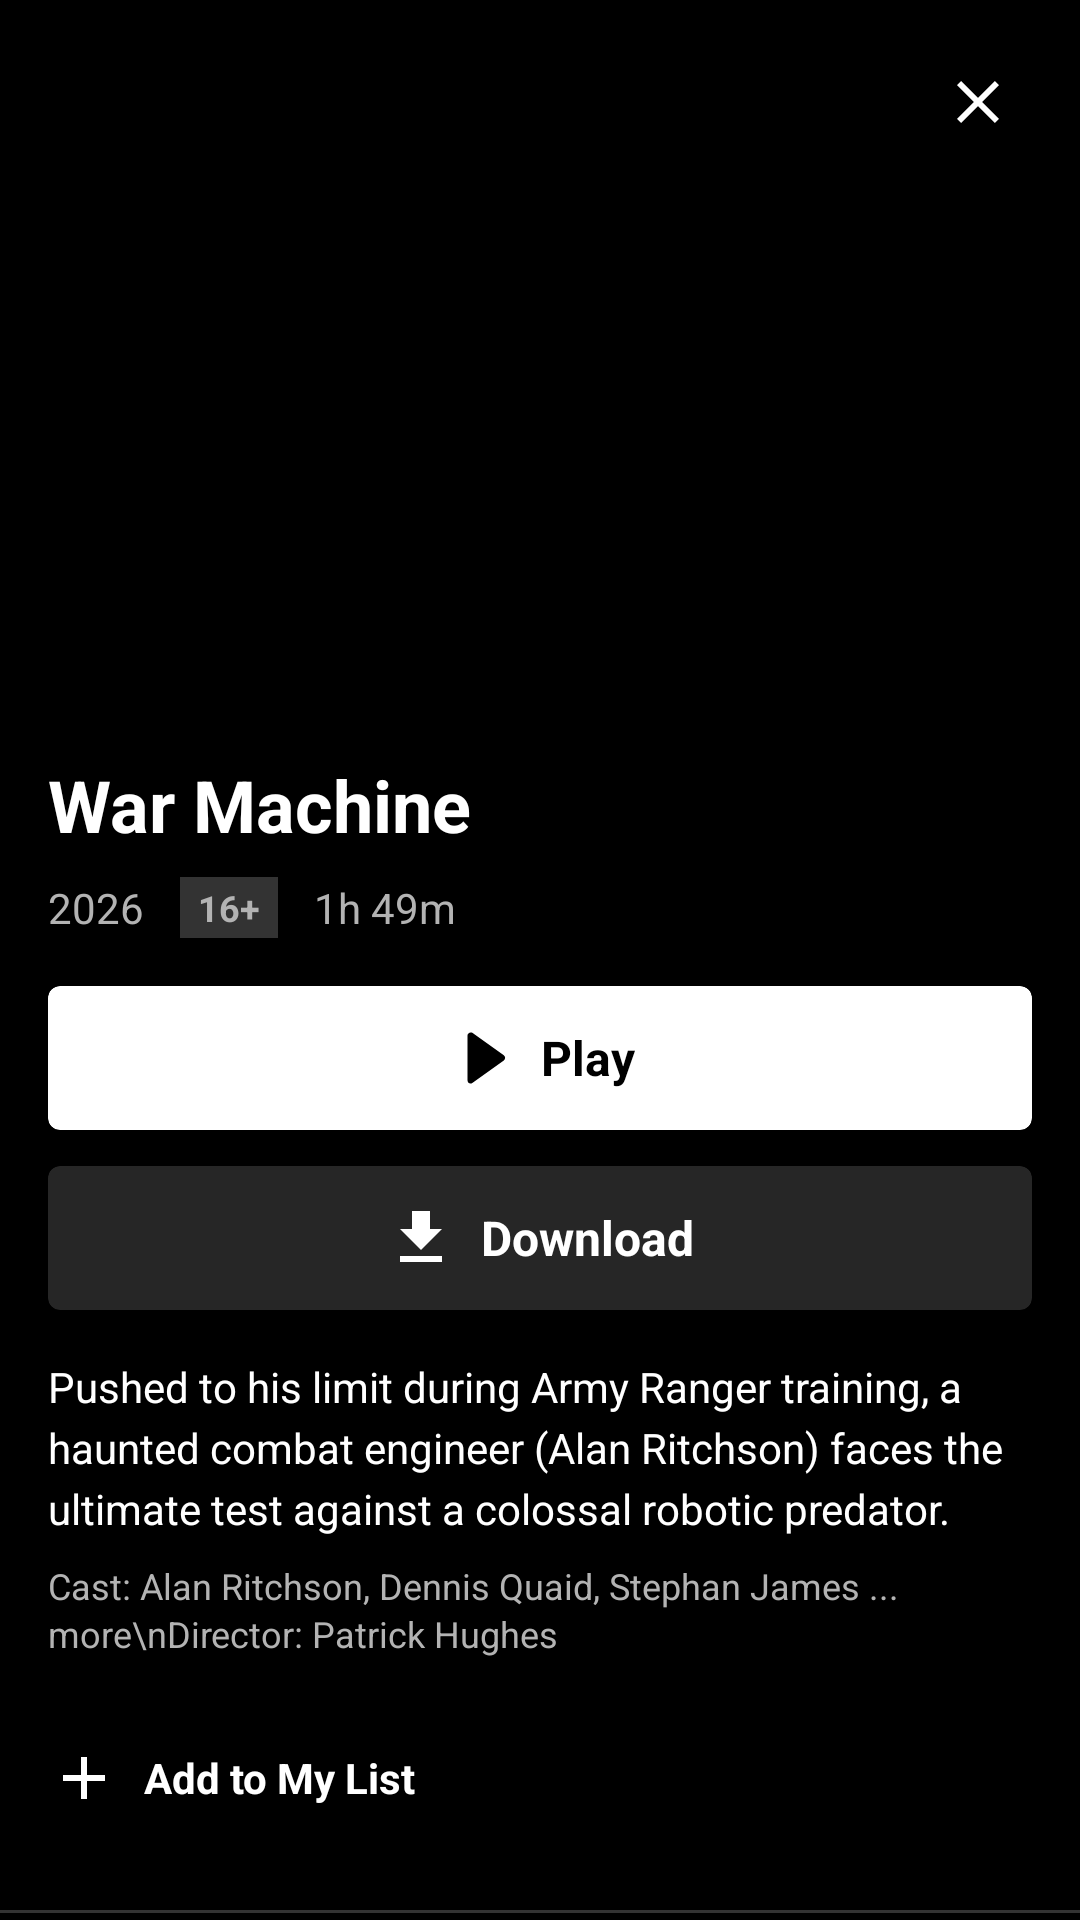

Where to tap for icons on this 1080px×1920px app screen, as [x,y]:
close: [978,102]
